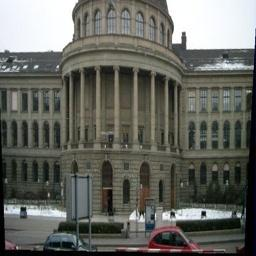building: (0, 0, 256, 241)
